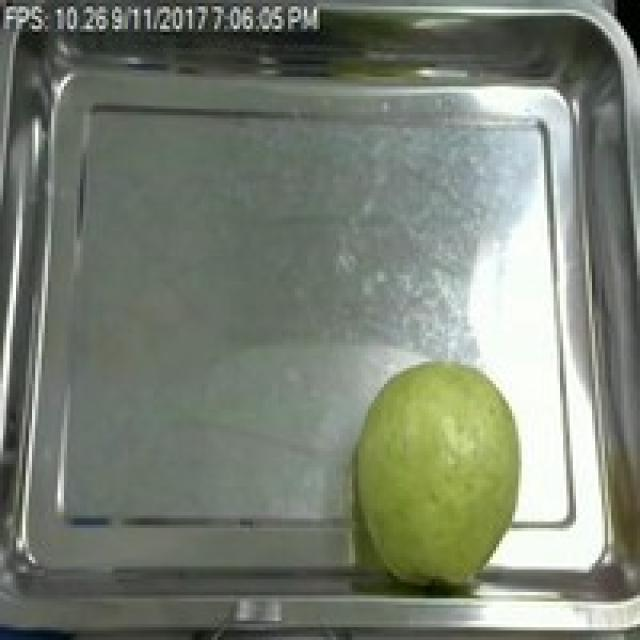Fruit: (330, 349, 534, 598)
